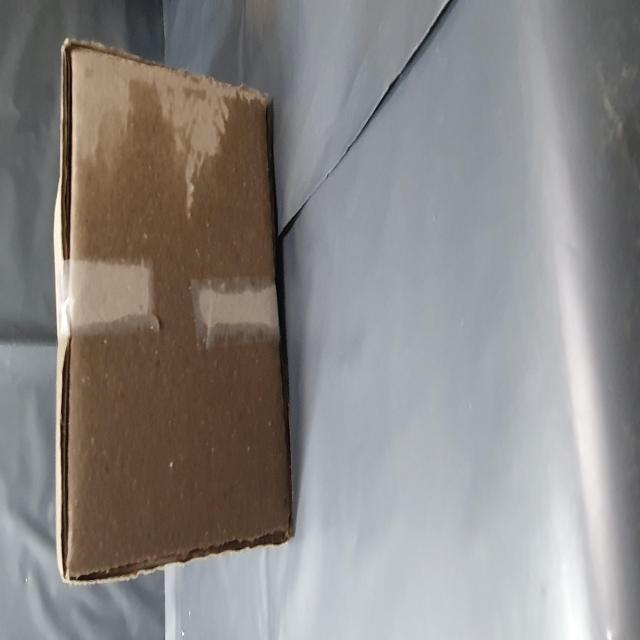wet: (32, 87, 317, 509)
